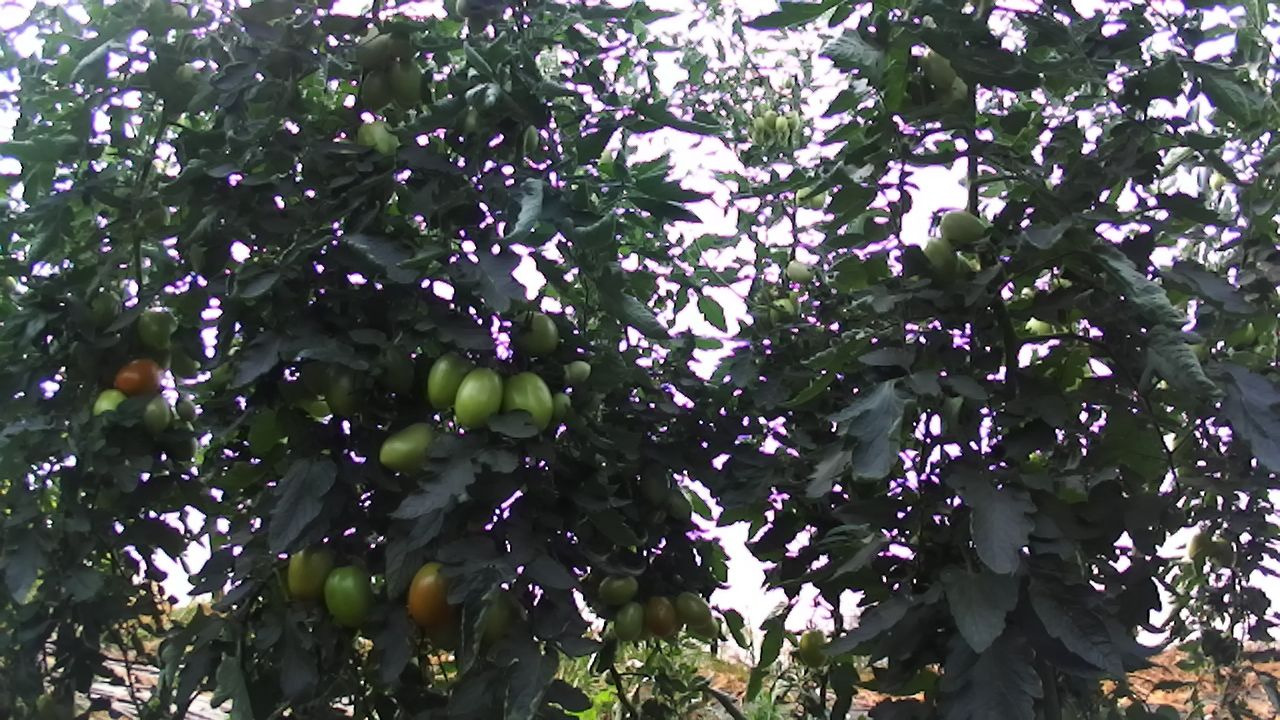tomato: (319, 561, 376, 629), (499, 368, 556, 435), (451, 364, 504, 432), (405, 559, 455, 630), (377, 419, 438, 476), (423, 346, 477, 410), (283, 541, 339, 601), (507, 308, 561, 359), (110, 354, 166, 398), (637, 457, 673, 508), (595, 571, 641, 608), (641, 593, 679, 637), (673, 589, 713, 627), (612, 599, 645, 643), (797, 627, 828, 669)
